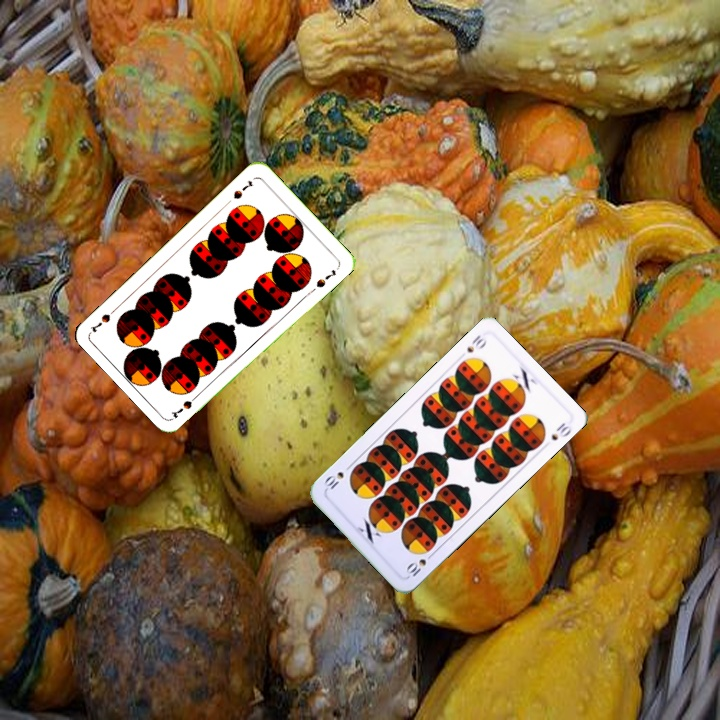S10: (402, 548, 437, 580), (463, 331, 489, 355)
S7: (168, 390, 202, 420), (229, 176, 255, 201)
